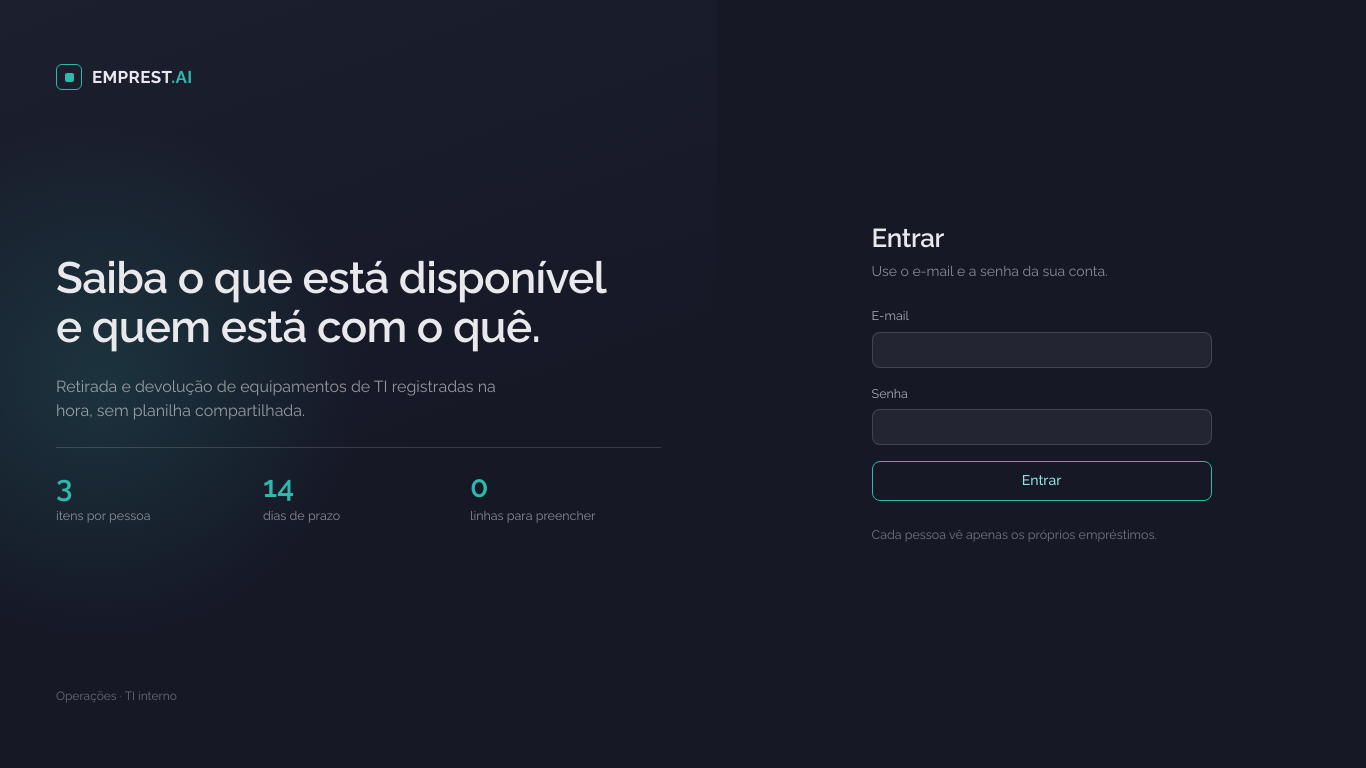
Test: login › CA-3: e-mail ou senha vazios dizem o que falta e não chamam o Auth
The image size is (1366, 768).
Later steps or results of the test are not shown.
Click the button "Entrar" at (1042, 481), box [872, 461, 1212, 501]
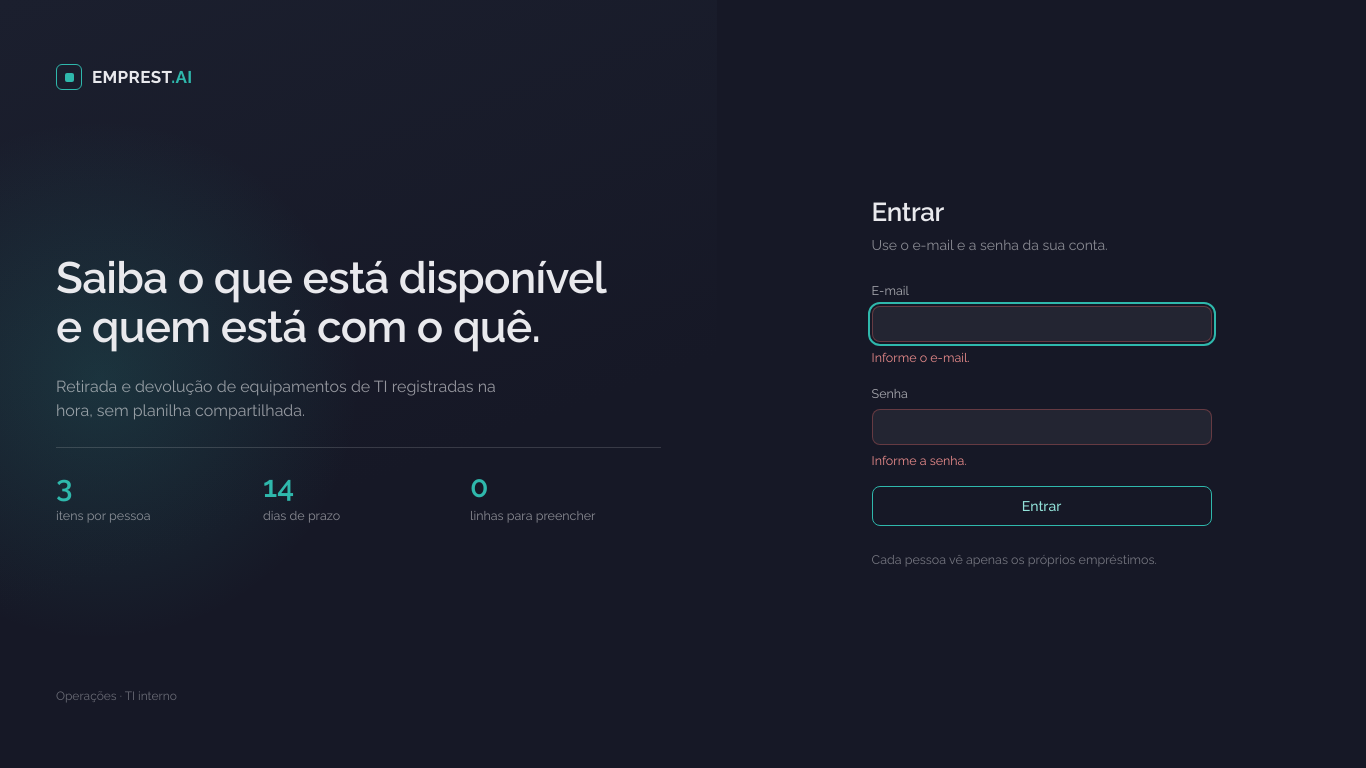
expect the text "Informe o e-mail." is shown: met, box [872, 350, 970, 365]
expect the text "Informe a senha." is shown: met, box [872, 453, 967, 468]
